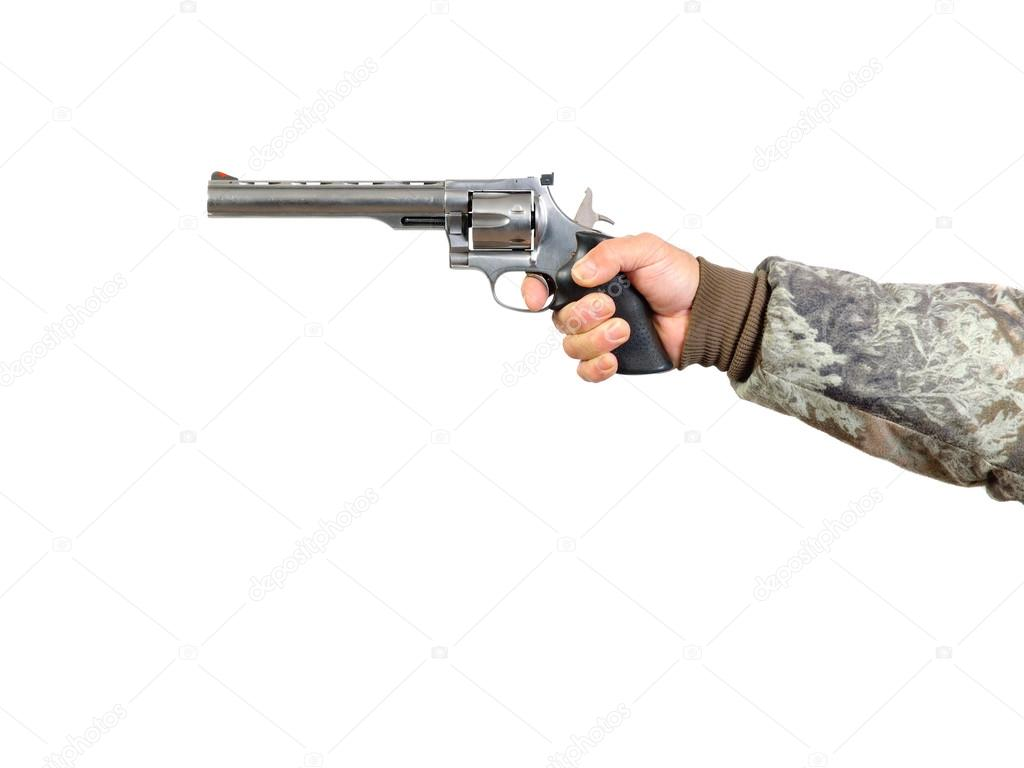Revolver: (179, 145, 688, 384)
